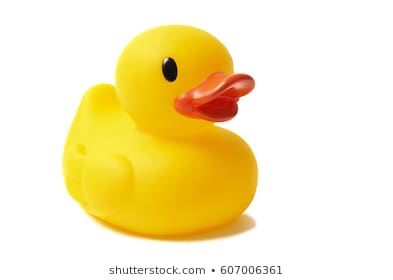duck: (41, 15, 271, 248)
